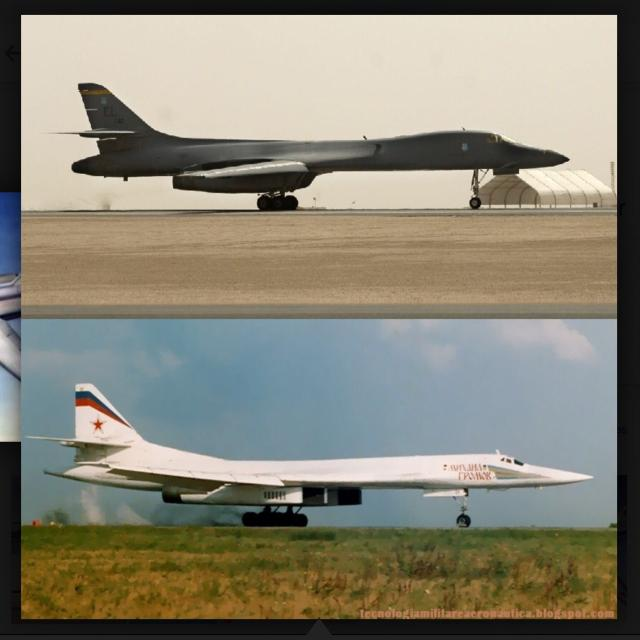MIL_Plane: (25, 388, 594, 523), (40, 44, 572, 109)
